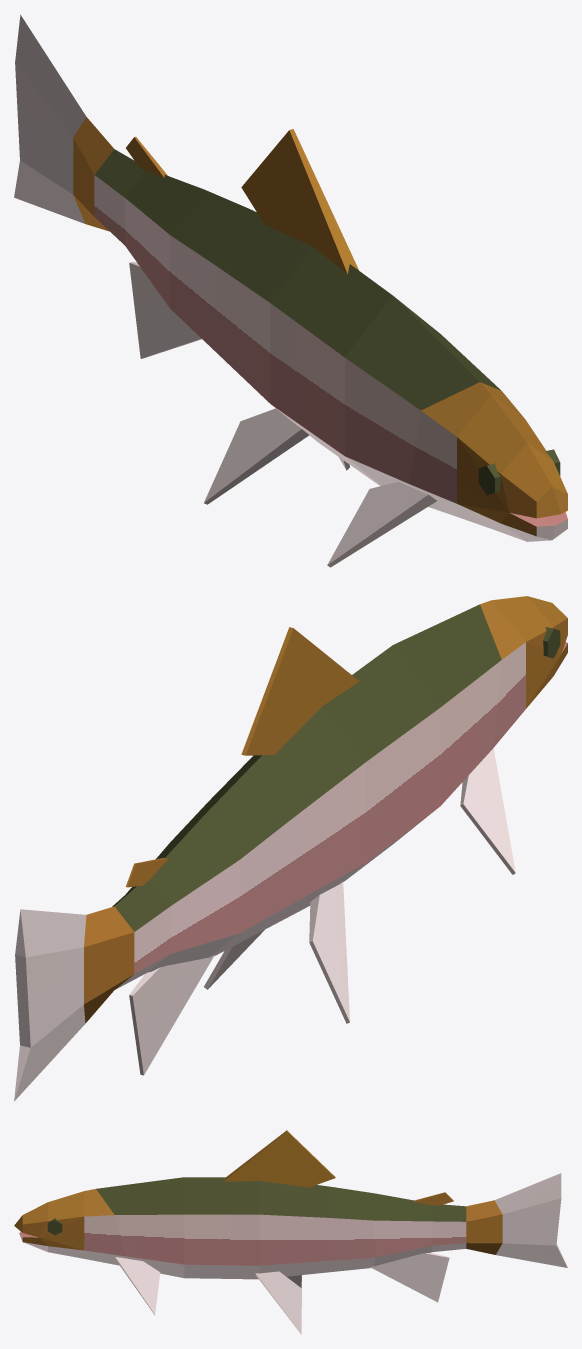
The model's file is 2W2sKWYvk8k.glb.
3 views of the same model, one above another, from view 1: azimuth 30°, elevation 25°; view 2: azimuth 150°, elevation 25°; view 3: azimuth 270°, elevation 25° (orthographic). The views are drawn at different scales.
Visible parts, largest first — view 1: Geo_Trout; view 2: Geo_Trout; view 3: Geo_Trout.
Boxes of the visible parts, <box> form: Geo_Trout: <box>14,14,567,567</box>; Geo_Trout: <box>14,596,567,1101</box>; Geo_Trout: <box>14,1130,567,1334</box>.
Size of the model in its own units: 0.5354 by 1 by 2.69.
1 material, 1 textured.
